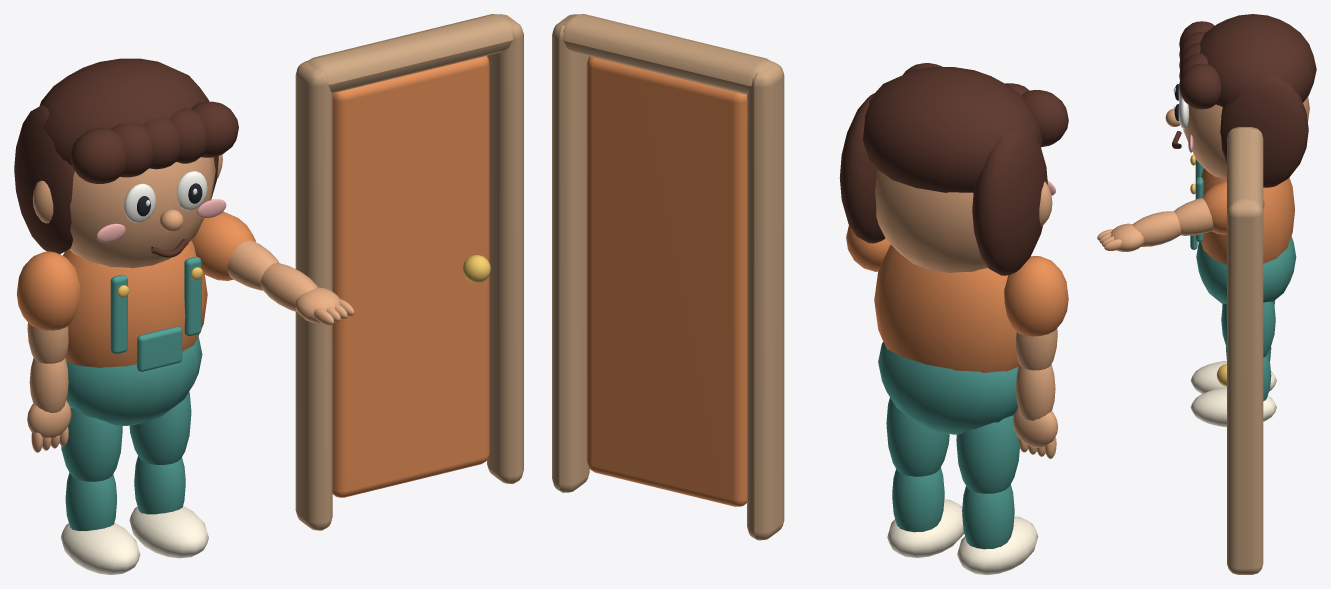
Rendered from ava-opposite-closed.glb.
3 renders of one model, left to right at view 1: azimuth 30°, elevation 25°; view 2: azimuth 150°, elevation 25°; view 3: azimuth 270°, elevation 25°, orthographic. The views are drawn at different scales.
Visible parts, largest first — view 1: door, door frame, door frame.001, soft shirt, hair cap, clay head, door frame.002, overalls, bob hair, shirt sleeve, trouser leg, little shoe (+23 smaller); view 2: door, door frame, hair cap, door frame.001, soft shirt, bob hair, door frame.002, overalls, clay head, shirt sleeve, trouser leg, bob hair.001 (+10 smaller); view 3: door frame.001, hair cap, bob hair.001, soft shirt, door frame.002, overalls, clay head, fringe.004, little shoe.001, forearm.001, upper arm.001, shirt sleeve.001 (+6 smaller).
Boxes of the visible parts, x1=… form: door: x1=332, y1=56, x2=489, y2=497; door frame: x1=295, y1=61, x2=332, y2=530; door frame.001: x1=487, y1=14, x2=523, y2=483; soft shirt: x1=63, y1=240, x2=207, y2=367; hair cap: x1=39, y1=58, x2=209, y2=165; clay head: x1=69, y1=157, x2=215, y2=268; door frame.002: x1=306, y1=14, x2=512, y2=93; overalls: x1=66, y1=336, x2=202, y2=425; bob hair: x1=14, y1=105, x2=74, y2=254; shirt sleeve: x1=17, y1=251, x2=79, y2=330; trouser leg: x1=61, y1=408, x2=122, y2=481; little shoe: x1=61, y1=522, x2=140, y2=574; door: x1=586, y1=56, x2=746, y2=506; door frame: x1=747, y1=61, x2=784, y2=540; hair cap: x1=863, y1=67, x2=1042, y2=192; door frame.001: x1=552, y1=14, x2=589, y2=492; soft shirt: x1=874, y1=245, x2=1019, y2=372; bob hair: x1=972, y1=128, x2=1047, y2=275; door frame.002: x1=563, y1=14, x2=773, y2=94; overalls: x1=878, y1=342, x2=1018, y2=434; clay head: x1=875, y1=169, x2=987, y2=272; shirt sleeve: x1=1004, y1=256, x2=1068, y2=336; trouser leg: x1=956, y1=413, x2=1019, y2=493; bob hair.001: x1=839, y1=93, x2=885, y2=243; door frame.001: x1=1227, y1=204, x2=1263, y2=574; hair cap: x1=1200, y1=14, x2=1316, y2=106; bob hair.001: x1=1220, y1=74, x2=1308, y2=187; soft shirt: x1=1201, y1=168, x2=1294, y2=264; door frame.002: x1=1227, y1=127, x2=1263, y2=211; overalls: x1=1196, y1=236, x2=1296, y2=303; clay head: x1=1183, y1=96, x2=1309, y2=179; fringe.004: x1=1179, y1=63, x2=1220, y2=109; little shoe.001: x1=1190, y1=387, x2=1276, y2=427; forearm.001: x1=1132, y1=211, x2=1181, y2=246; upper arm.001: x1=1174, y1=198, x2=1213, y2=235; shirt sleeve.001: x1=1202, y1=181, x2=1264, y2=234.
Bounding box in the file's own units: 2.03 × 1.95 × 0.9655.
